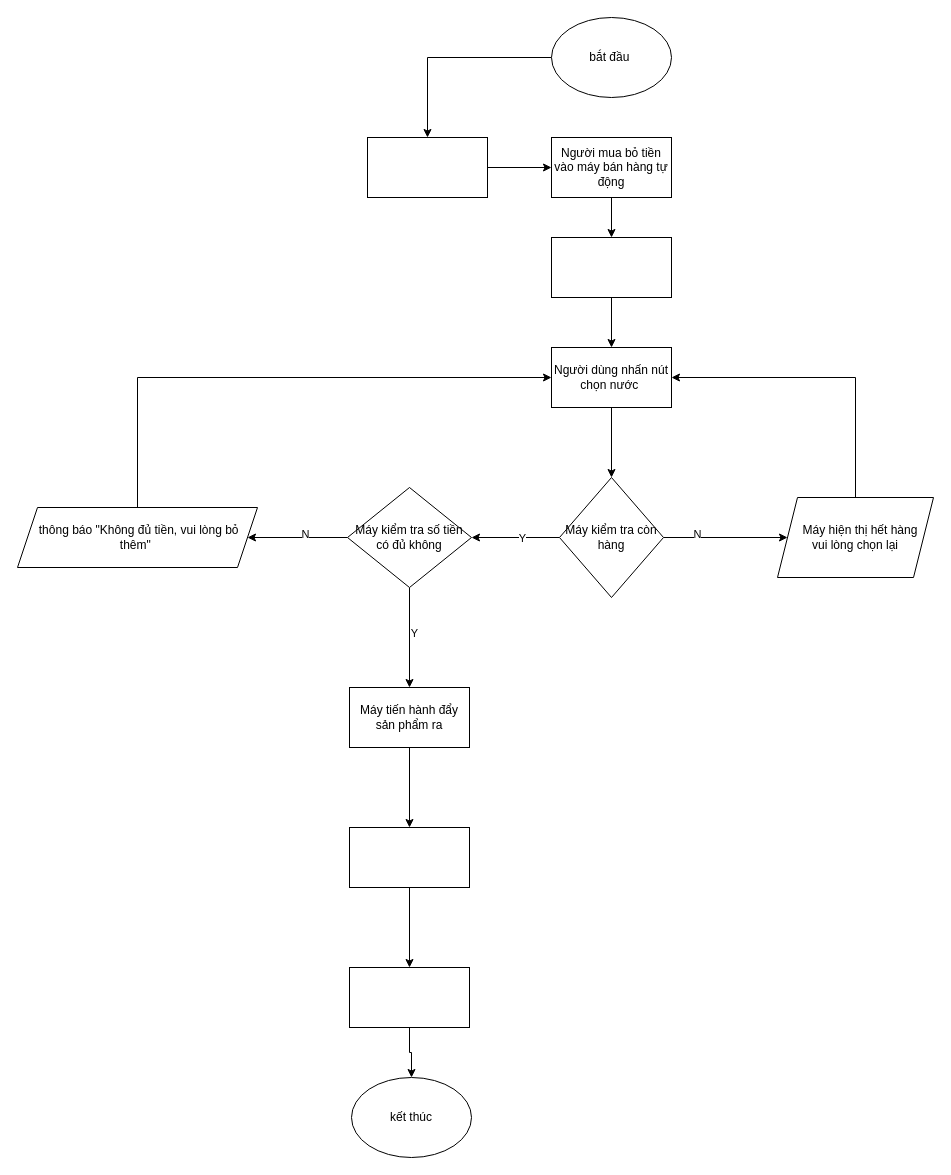
Some shapes in this 951 by 1175 pixel diagram are drawn without their labels. The shapes that lost their labels are listed below. From the top down, each one's centre as x and y in pixels, then its label:
point (427, 167): Máy ở trạng thái chờ
point (611, 267): Máy hiện số tiền đã đưa vào máy chưa được sử dụng
point (409, 857): Máy trả lại tiền thừa nếu có
point (409, 997): Máy trở lại trạng thái chờ
